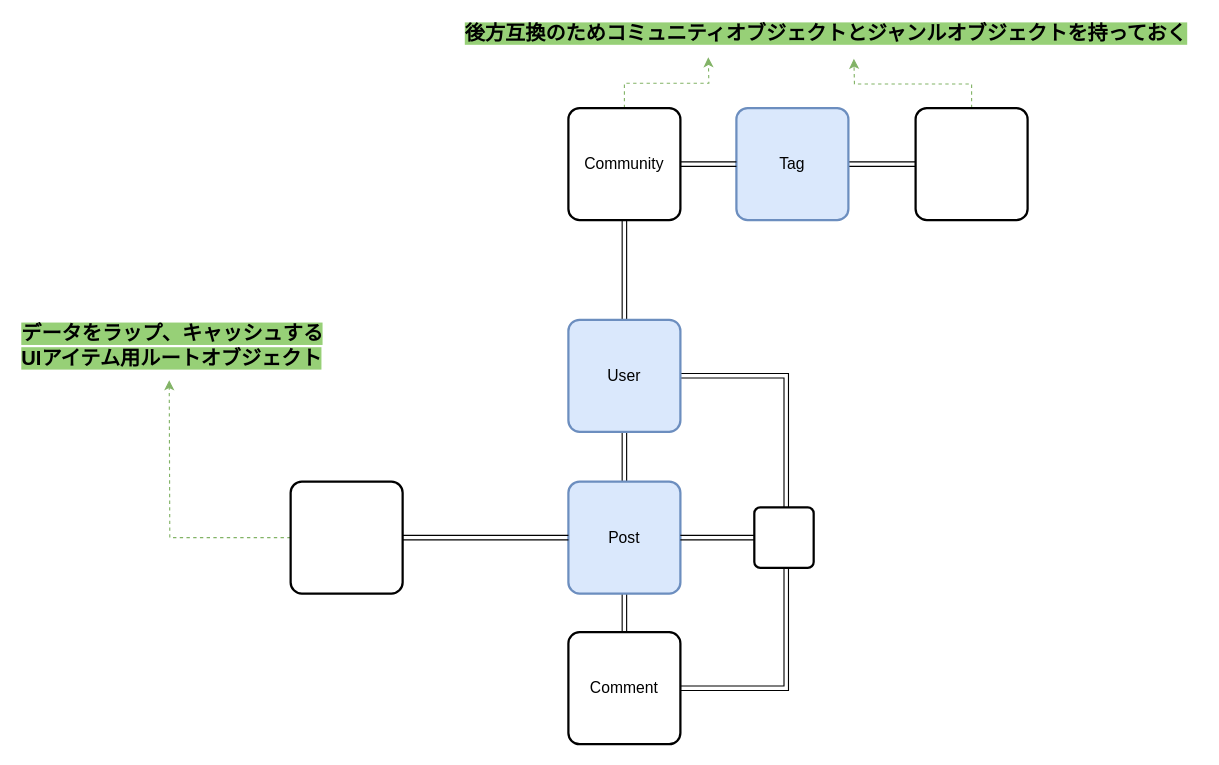
The diagram is 1219 pixels wide and 765 high, and some of its shapes have lost their labels. Here are the shapes that lost their labels. From the top down, the centre of each, then its label:
the point at 971,163: Genre
the point at 346,537: Row
the point at 783,537: Like
